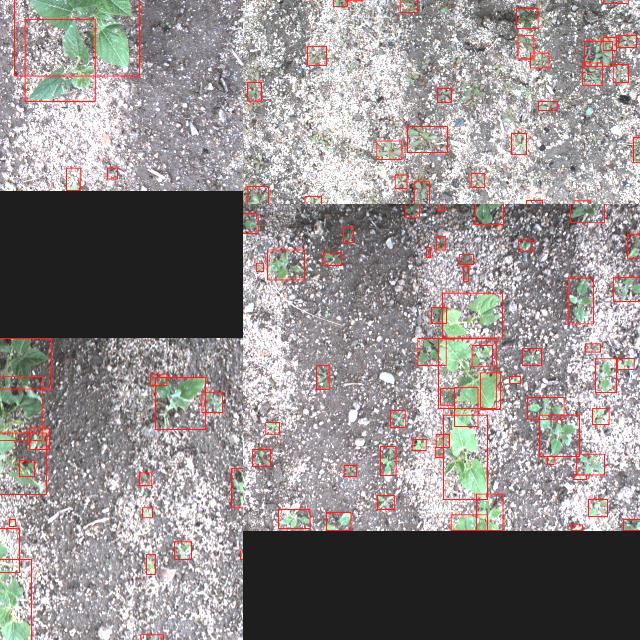crop: (13, 0, 138, 76), (24, 19, 94, 101), (438, 339, 496, 409), (443, 414, 487, 500), (0, 432, 46, 494), (442, 292, 502, 338), (0, 376, 41, 440), (0, 337, 50, 388), (0, 559, 31, 640), (453, 387, 477, 427), (0, 529, 18, 573), (450, 515, 488, 531), (474, 204, 503, 224)
weed: (155, 377, 205, 429), (538, 416, 578, 456), (567, 278, 593, 324), (266, 249, 304, 279), (407, 127, 447, 153), (476, 494, 502, 530), (526, 397, 564, 419), (417, 338, 445, 366), (480, 372, 500, 410), (594, 358, 616, 392), (584, 40, 612, 66), (613, 276, 640, 301), (278, 509, 310, 529), (576, 454, 604, 476), (569, 204, 603, 222), (376, 140, 402, 160), (230, 468, 243, 508), (380, 446, 396, 476), (582, 63, 602, 85), (515, 8, 537, 28), (200, 392, 222, 412), (471, 344, 491, 366), (326, 513, 350, 531), (28, 428, 48, 448), (246, 186, 268, 204), (306, 46, 326, 64), (517, 36, 533, 58), (413, 181, 428, 204), (626, 234, 640, 258), (588, 499, 606, 517), (522, 348, 540, 366), (510, 134, 526, 154), (66, 168, 80, 190), (173, 542, 190, 560), (252, 449, 270, 466), (612, 64, 628, 82), (530, 52, 548, 68), (316, 365, 328, 389), (243, 213, 257, 233), (247, 82, 261, 101), (18, 460, 34, 476), (592, 409, 608, 425), (430, 307, 446, 323), (440, 388, 454, 406), (390, 410, 404, 428), (376, 496, 394, 510), (322, 252, 342, 264), (618, 35, 636, 47), (399, 0, 417, 12), (632, 137, 640, 162), (622, 519, 640, 530), (470, 174, 484, 188), (437, 88, 451, 102), (138, 472, 152, 486), (150, 373, 166, 385), (602, 38, 616, 51), (404, 204, 418, 217), (616, 358, 634, 368), (394, 175, 406, 189), (436, 434, 448, 448), (265, 422, 279, 434), (146, 554, 154, 574), (342, 226, 352, 242), (538, 102, 556, 110), (518, 240, 532, 250), (459, 254, 473, 264), (412, 440, 426, 450), (584, 344, 600, 352), (107, 168, 117, 180), (343, 466, 355, 476), (304, 197, 320, 204), (436, 236, 444, 250), (140, 635, 162, 640), (142, 508, 152, 518), (434, 448, 444, 458), (508, 376, 520, 384), (332, 0, 346, 6), (572, 474, 586, 480), (462, 266, 468, 280), (570, 525, 582, 531), (526, 200, 542, 204), (255, 263, 262, 271), (573, 201, 589, 204), (547, 456, 553, 464), (426, 247, 430, 257), (8, 520, 14, 526), (239, 550, 243, 559), (437, 204, 443, 210)
